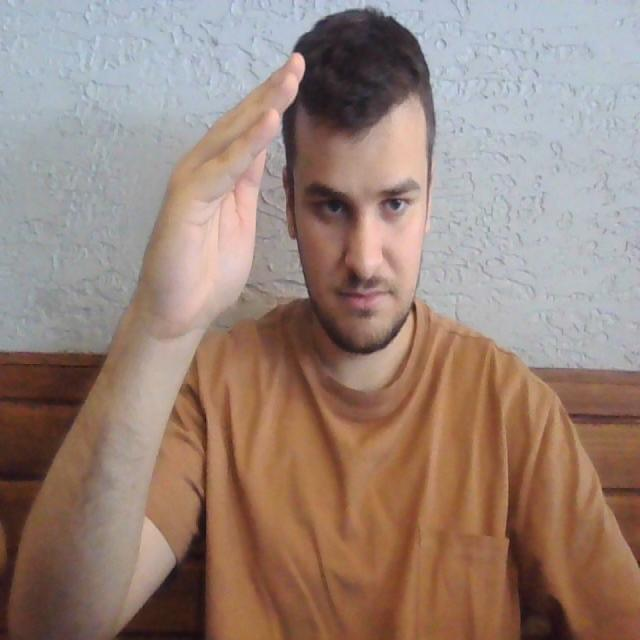Merhaba: (143, 38, 343, 334)
